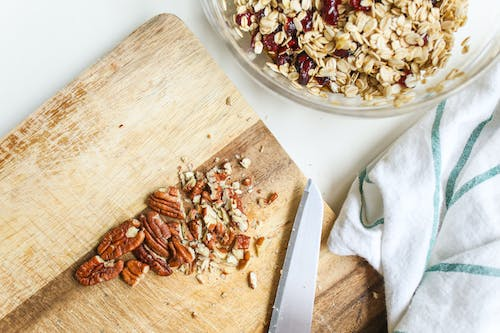knife: (267, 176, 324, 333)
